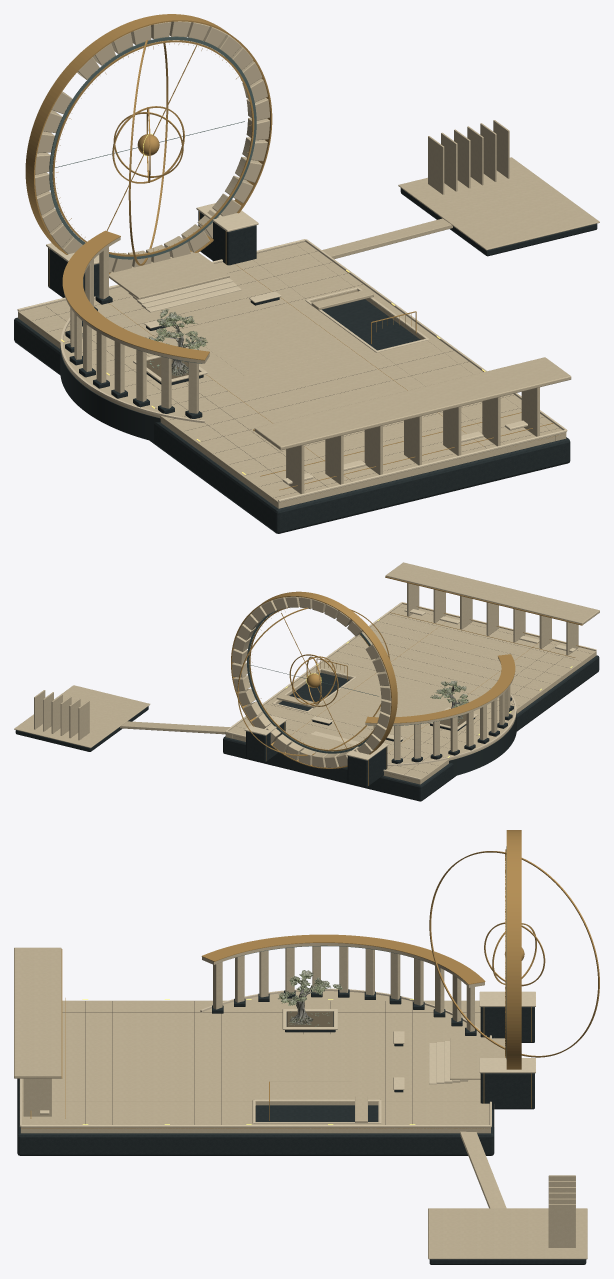
The model's file is dawn-observatory.glb.
The picture shows the model from 3 angles, top to bottom: view 1: azimuth 30°, elevation 25°; view 2: azimuth 150°, elevation 25°; view 3: azimuth 270°, elevation 25°; orthographic projection. The views are drawn at different scales.
Visible parts, largest first — view 1: Dawn_ground, Dawn_architecture.004, Dawn_foundation, Dawn_architecture.002, Dawn_distant.001, Dawn_architecture, Dawn_architecture.003, Quiet performance floor, Dawn_foundation.001, Dawn_architecture.005, Dawn_basin, Solitary wind shaped olive (+3 smaller); view 2: Dawn_ground, Dawn_architecture.004, Dawn_architecture.002, Dawn_foundation, Dawn_distant.001, Dawn_architecture, Dawn_architecture.003, Quiet performance floor, Dawn_basin, Dawn_foundation.001, Dawn_architecture.005, Dawn_distant (+2 smaller); view 3: Dawn_ground, Dawn_architecture.004, Dawn_foundation, Dawn_architecture.002, Dawn_distant.001, Dawn_architecture, Dawn_architecture.003, Quiet performance floor, Dawn_foundation.001, Dawn_basin, Solitary wind shaped olive, Dawn_architecture.001 (+3 smaller).
Boxes of the visible parts, box(x1,y1,x2,y2) form: Dawn_ground: box(18, 242, 566, 503); Dawn_architecture.004: box(35, 21, 571, 493); Dawn_foundation: box(14, 317, 570, 533); Dawn_architecture.002: box(25, 14, 553, 490); Dawn_distant.001: box(398, 120, 599, 250); Dawn_architecture: box(17, 203, 567, 502); Dawn_architecture.003: box(48, 211, 279, 418); Quiet performance floor: box(201, 323, 324, 375); Dawn_foundation.001: box(18, 290, 566, 508); Dawn_architecture.005: box(49, 36, 256, 363); Dawn_basin: box(322, 299, 420, 350); Solitary wind shaped olive: box(149, 309, 208, 375); Dawn_ground: box(225, 604, 596, 780); Dawn_architecture.004: box(120, 562, 599, 767); Dawn_architecture.002: box(231, 576, 587, 785); Dawn_foundation: box(223, 655, 599, 801); Dawn_distant.001: box(14, 685, 150, 748); Dawn_architecture: box(225, 602, 596, 780); Dawn_architecture.003: box(246, 697, 513, 787); Quiet performance floor: box(348, 689, 432, 717); Dawn_basin: box(278, 673, 349, 710); Dawn_foundation.001: box(225, 652, 596, 784); Dawn_architecture.005: box(247, 610, 462, 753); Dawn_distant: box(15, 706, 148, 751); Dawn_ground: box(20, 991, 490, 1128); Dawn_architecture.004: box(14, 943, 506, 1208); Dawn_foundation: box(17, 1078, 494, 1155); Dawn_architecture.002: box(30, 830, 599, 1120); Dawn_distant.001: box(428, 1175, 587, 1259); Dawn_architecture: box(19, 988, 535, 1127); Dawn_architecture.003: box(212, 989, 534, 1109); Quiet performance floor: box(269, 1046, 351, 1081); Dawn_foundation.001: box(20, 1102, 490, 1133); Dawn_basin: box(255, 1105, 378, 1121); Solitary wind shaped olive: box(278, 970, 342, 1025); Dawn_architecture.001: box(62, 1001, 494, 1126).
Size of the model in its own units: 87.4 by 40.57 by 86.03.
10 materials, 4 textured.
